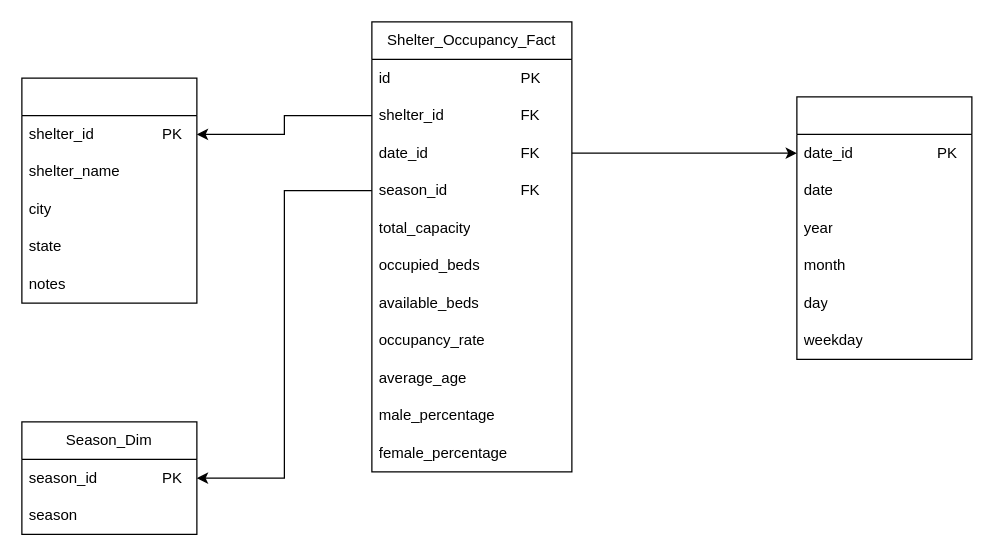
This 994x556 diagram has some shape labels left out. The shapes that lost their labels are listed below. From the top down, each one's box as (x1, y1, x2, y2) in pixels, then its label:
(21, 77, 197, 303): Shelter_Dim
(796, 96, 972, 359): Date_Dim
